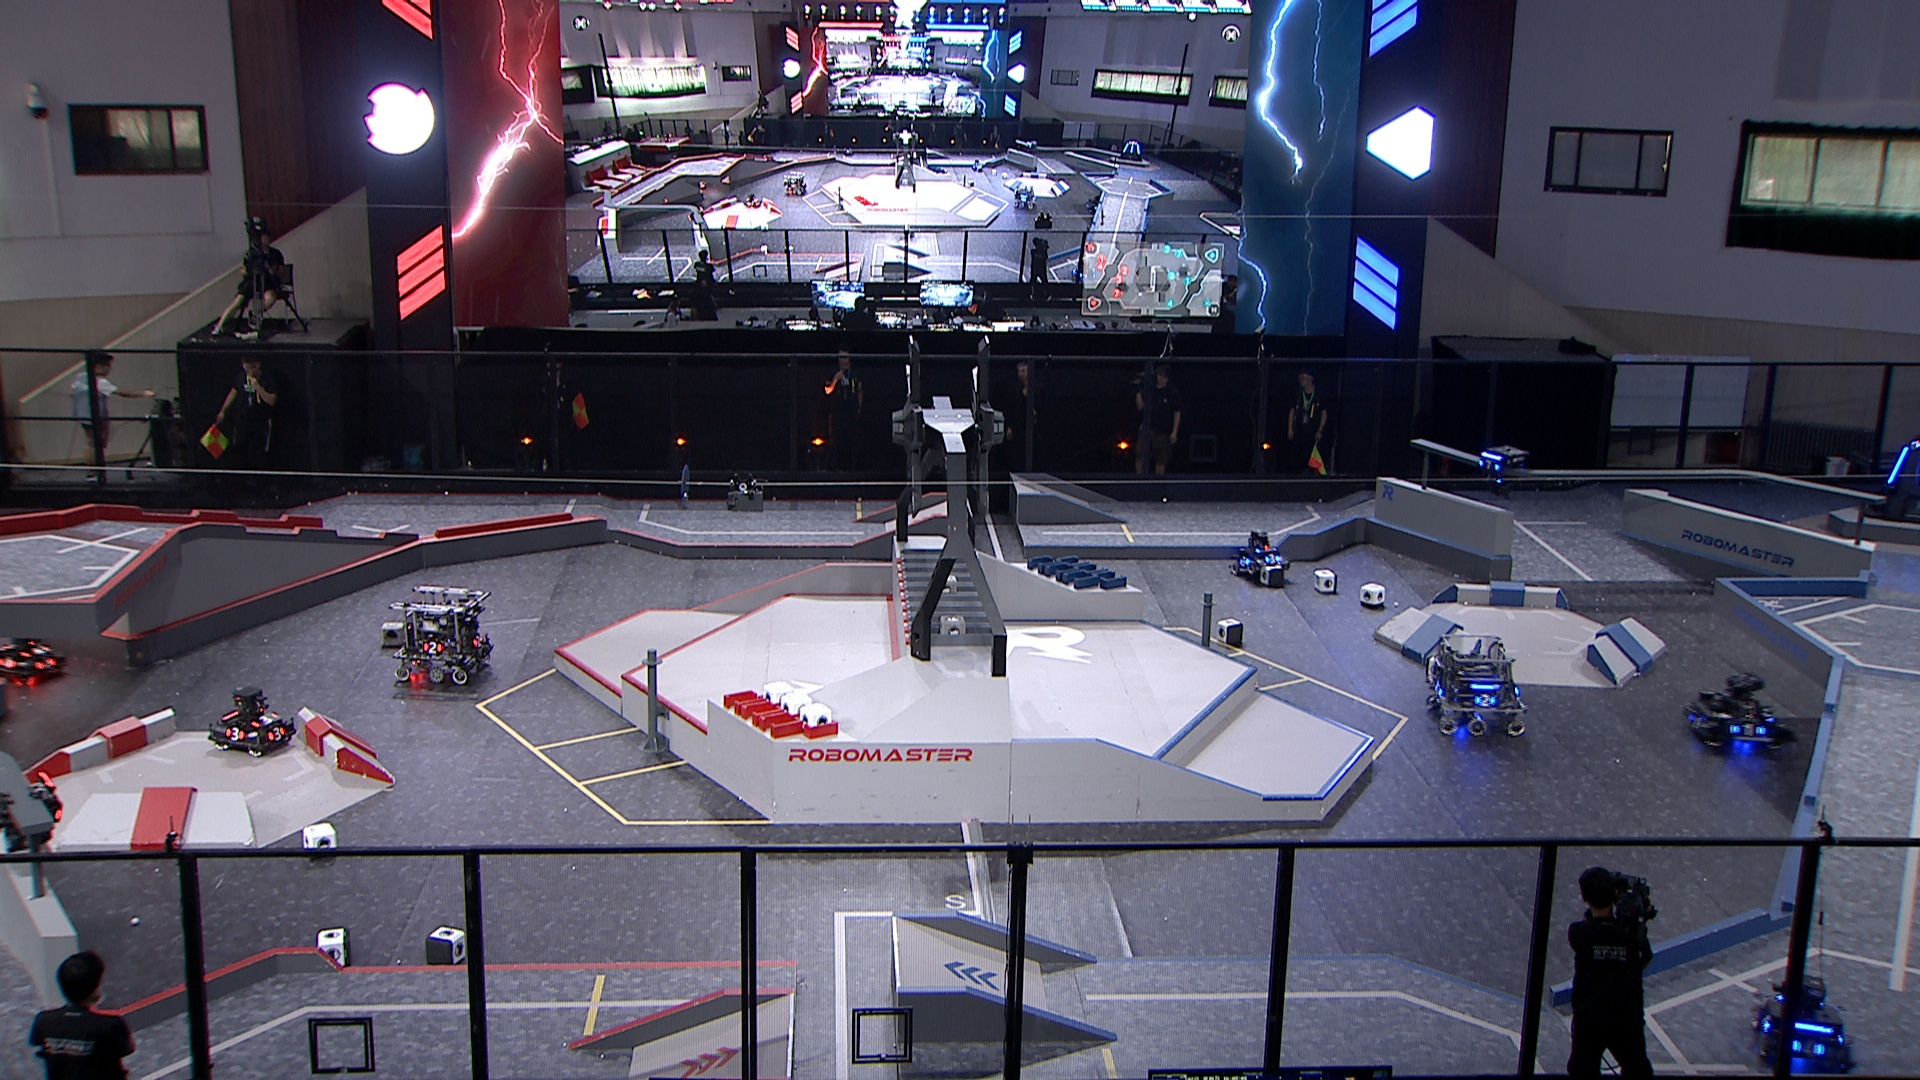armor: (1731, 719, 1768, 741), (1888, 447, 1909, 485), (1792, 1036, 1828, 1058), (249, 713, 282, 731), (17, 644, 50, 659), (1476, 458, 1501, 475), (264, 727, 289, 744), (1688, 713, 1712, 731), (1759, 1011, 1776, 1035), (223, 725, 245, 742), (34, 655, 57, 673), (423, 640, 443, 657), (1476, 694, 1495, 708), (1262, 553, 1282, 567), (471, 636, 487, 650), (1240, 556, 1253, 568)
base: (1865, 439, 1920, 527)
car: (1423, 633, 1531, 741), (390, 582, 495, 688), (1749, 971, 1854, 1071), (1681, 673, 1792, 752), (204, 684, 299, 760), (1228, 527, 1291, 582)
ignore: (781, 169, 808, 196), (1015, 185, 1039, 214), (1120, 138, 1145, 164), (688, 204, 707, 225), (742, 191, 761, 208), (1072, 262, 1087, 284), (1087, 195, 1102, 214), (1026, 140, 1040, 154), (971, 158, 984, 171)
watcher: (1474, 443, 1527, 498)
